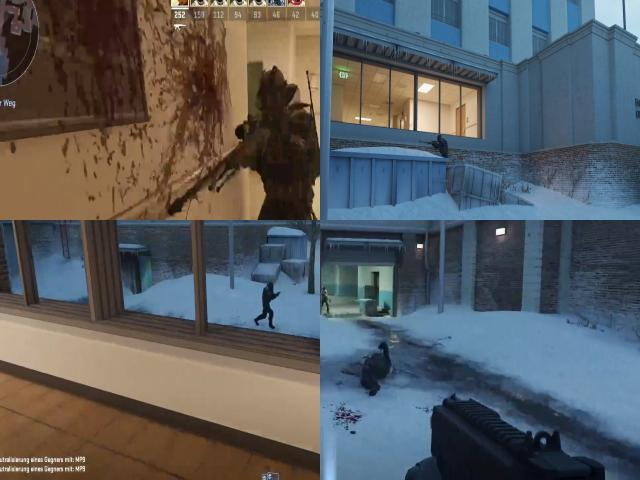CT: (245, 66, 320, 220), (260, 280, 279, 315), (435, 131, 450, 160)
CT-Head: (244, 66, 304, 128), (264, 281, 275, 295), (437, 134, 442, 142)
Dead: (350, 338, 401, 393)
T: (320, 284, 331, 310)
T-Head: (322, 287, 329, 296)
